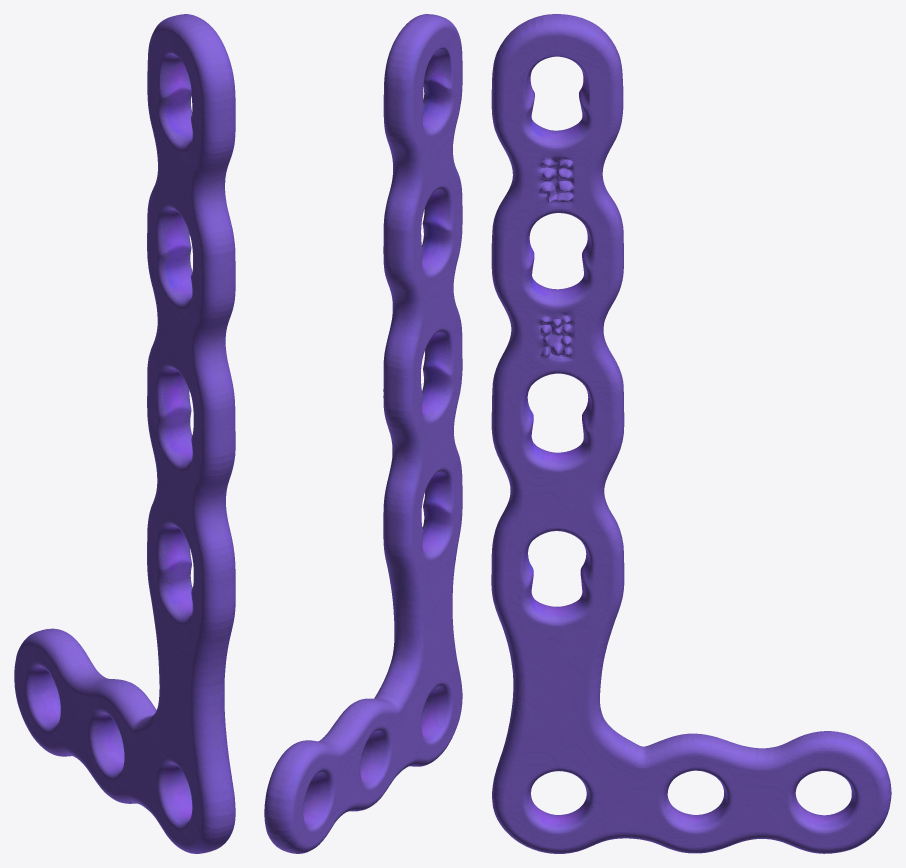
The model's file is placa2.glb.
3 renders of one model, left to right at view 1: azimuth 30°, elevation 25°; view 2: azimuth 150°, elevation 25°; view 3: azimuth 270°, elevation 25°, orthographic. The views are drawn at different scales.
Parts seen in each view (by area): view 1: tripo_node_c855b834-a650-4e75-a2cd-8810c98540fd; view 2: tripo_node_c855b834-a650-4e75-a2cd-8810c98540fd; view 3: tripo_node_c855b834-a650-4e75-a2cd-8810c98540fd.
Part boxes in pixels (x1,y1,x2,y2): tripo_node_c855b834-a650-4e75-a2cd-8810c98540fd: [14, 14, 235, 853]; tripo_node_c855b834-a650-4e75-a2cd-8810c98540fd: [264, 14, 462, 853]; tripo_node_c855b834-a650-4e75-a2cd-8810c98540fd: [491, 14, 891, 853].
Size of the model in its own units: 0.049 by 1 by 0.4352.
1 material, 1 textured.
